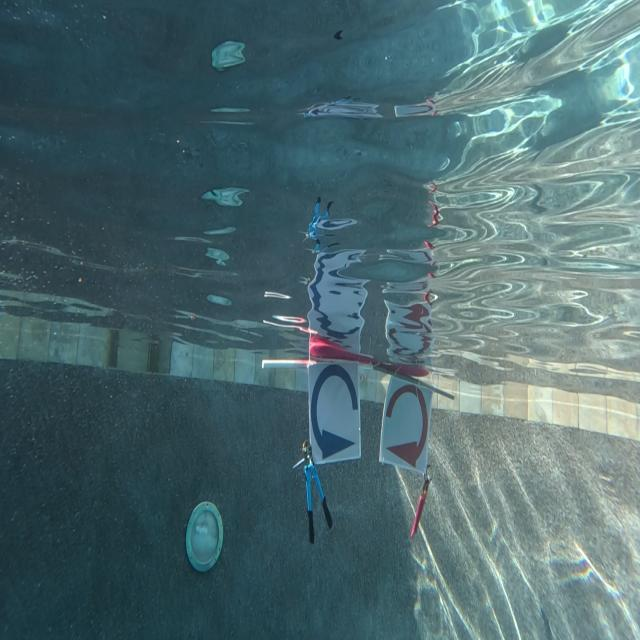blue_side: (309, 372, 363, 467)
red_side: (381, 376, 436, 475)
